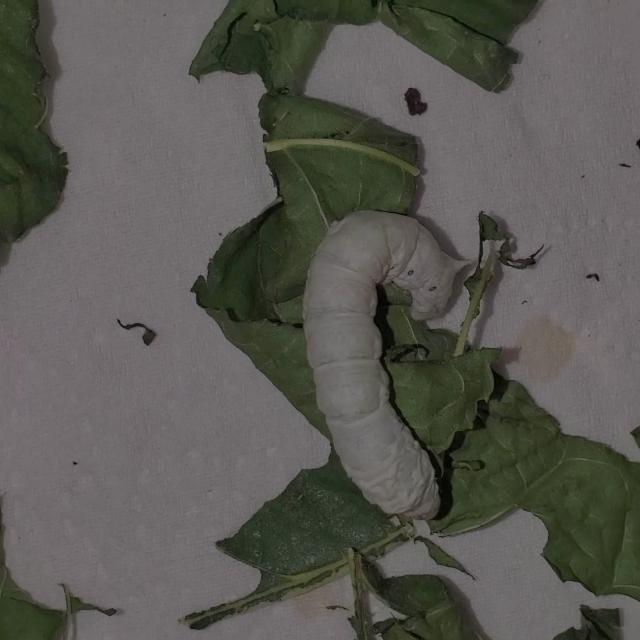Healthy: (298, 202, 473, 534)
